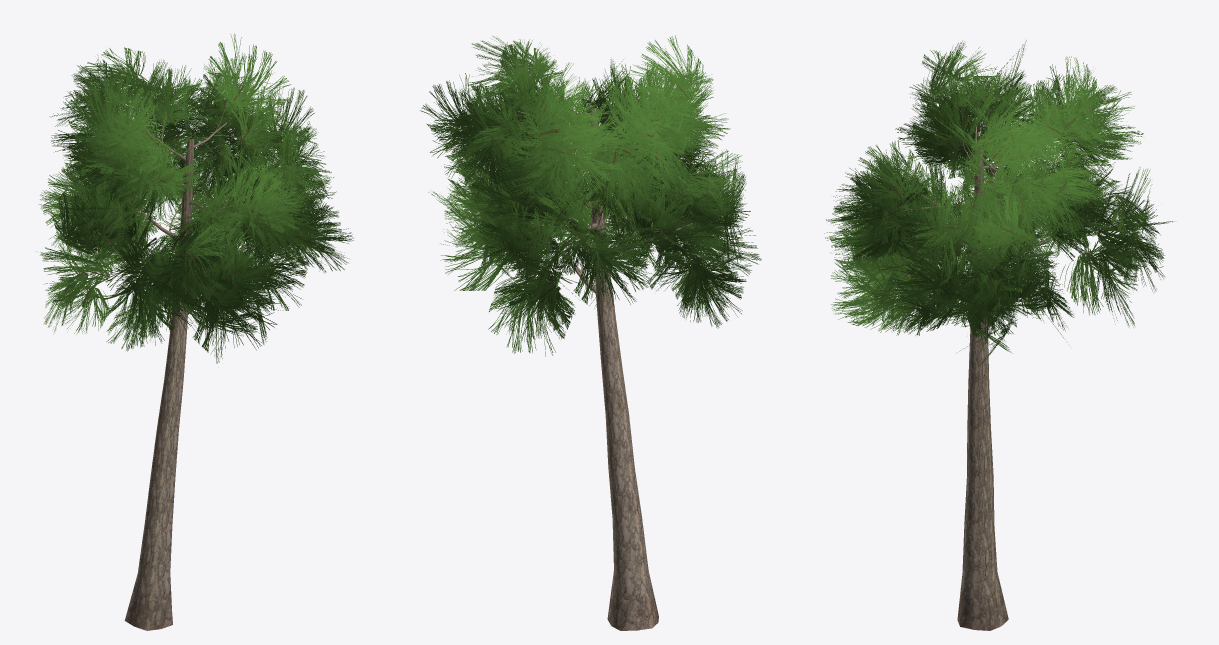
Rendered from tree_pine.glb.
3 renders of one model, left to right at view 1: azimuth 30°, elevation 25°; view 2: azimuth 150°, elevation 25°; view 3: azimuth 270°, elevation 25°, orthographic. The views are drawn at different scales.
Parts seen in each view (by area): view 1: plant; view 2: plant; view 3: plant.
Part boxes in pixels (x1=…): plant: x1=39, y1=33, x2=353, y2=630; plant: x1=420, y1=35, x2=761, y2=630; plant: x1=824, y1=40, x2=1173, y2=630.
Size of the model in its own units: 4.72 by 7.68 by 4.84.
Materials: 2 (2 with a texture image).
